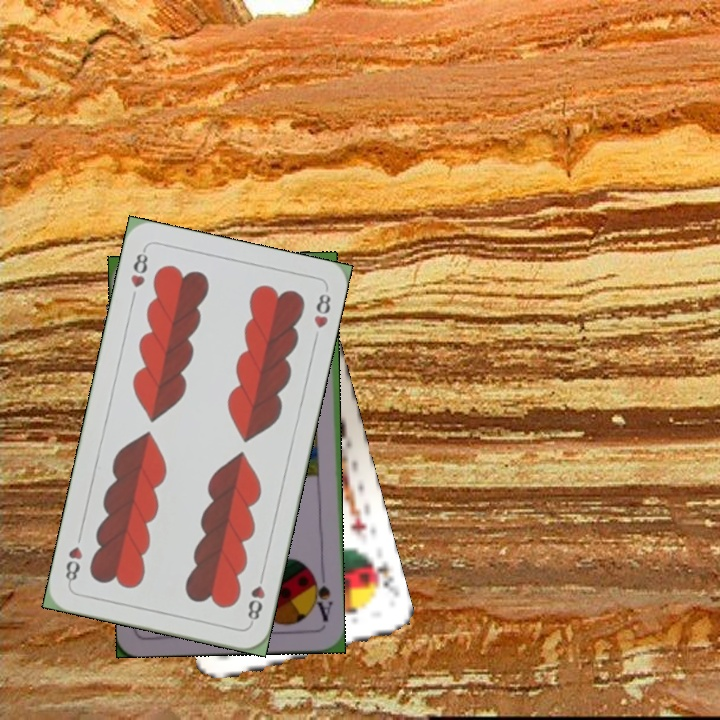H8: (243, 568, 268, 627), (126, 245, 151, 291)
SA: (308, 567, 336, 624)
SK: (363, 553, 397, 597)
